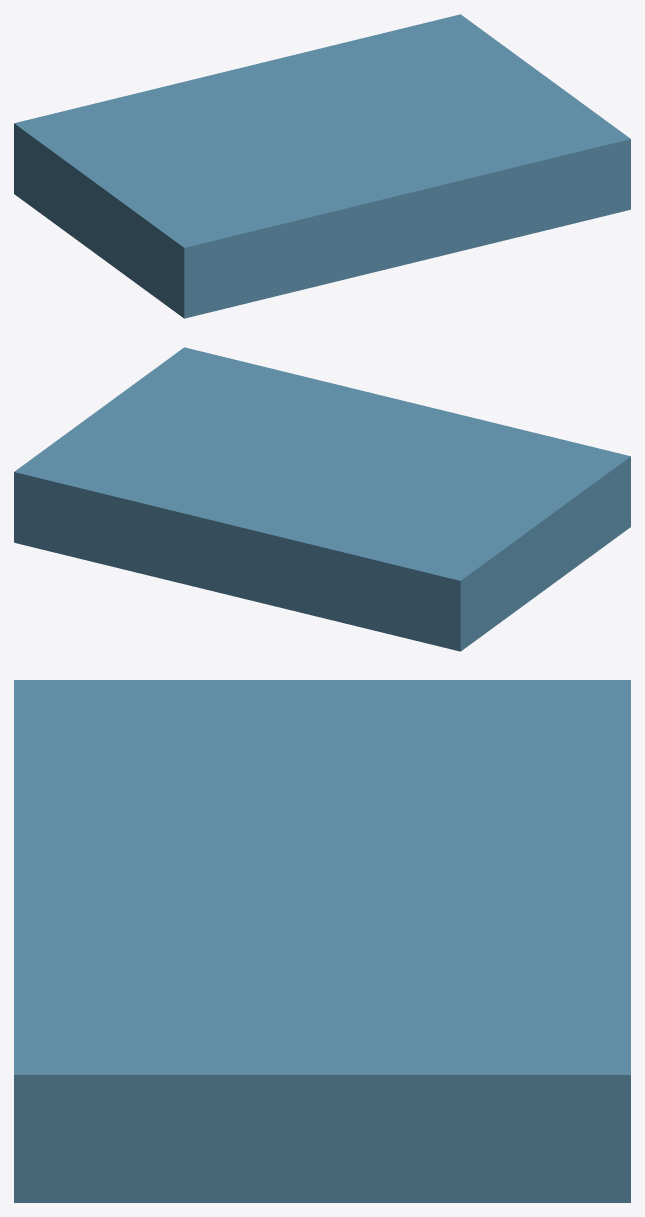
Rendered from Mazda-CX-5-2021-C27019.glb.
The picture shows the model from 3 angles, top to bottom: view 1: azimuth 30°, elevation 25°; view 2: azimuth 150°, elevation 25°; view 3: azimuth 270°, elevation 25°; orthographic projection. The views are drawn at different scales.
Parts seen in each view (by area): view 1: C 27 019 overall dimension envelope; view 2: C 27 019 overall dimension envelope; view 3: C 27 019 overall dimension envelope.
Part boxes in pixels (<box>): C 27 019 overall dimension envelope: <box>14,14,630,318</box>; C 27 019 overall dimension envelope: <box>14,347,630,651</box>; C 27 019 overall dimension envelope: <box>14,680,630,1202</box>.
Bounding box in the file's own units: 0.271 × 0.041 × 0.179.
